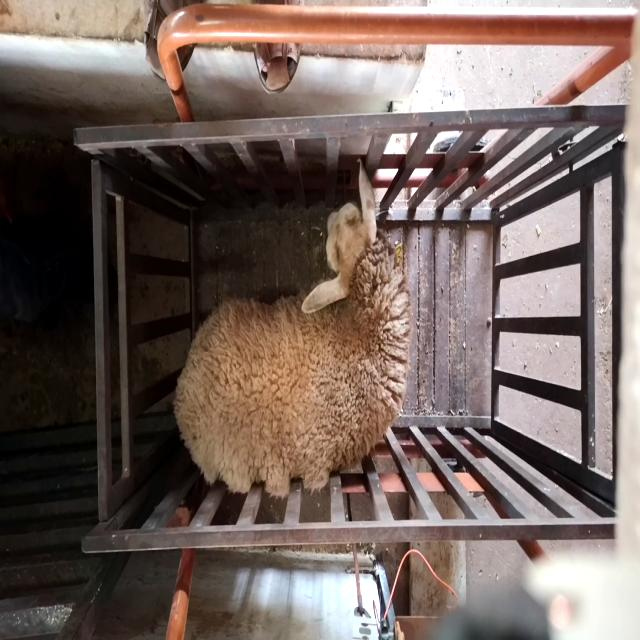sheep: (173, 160, 414, 497)
